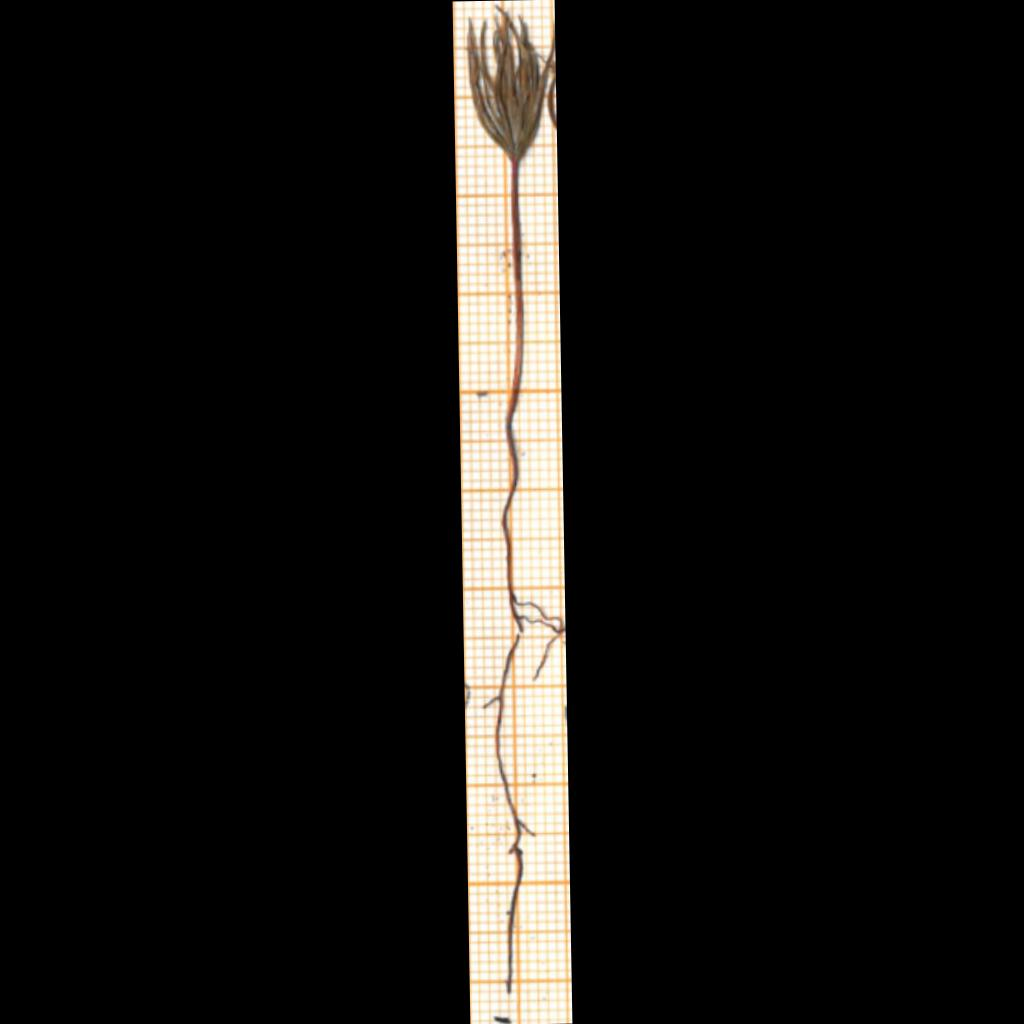flowerPinus: (467, 14, 552, 161)
rootPinus: (486, 406, 565, 993)
stemPinus: (511, 160, 522, 398)
